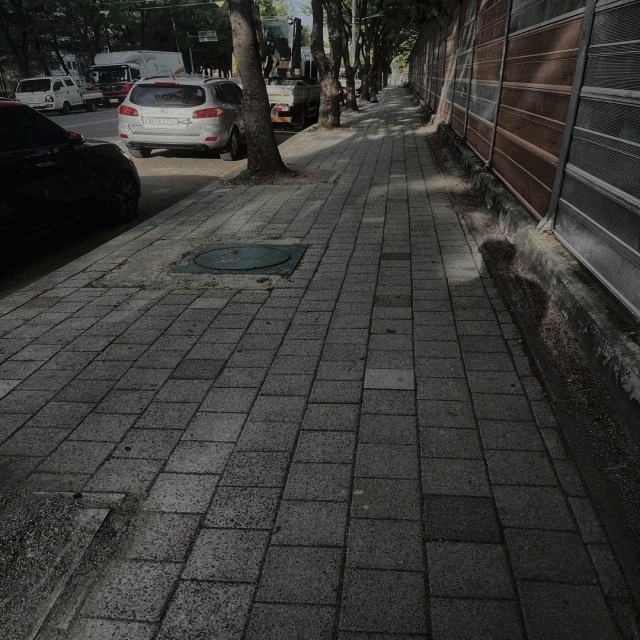Sewer Cover: (166, 238, 324, 297)
